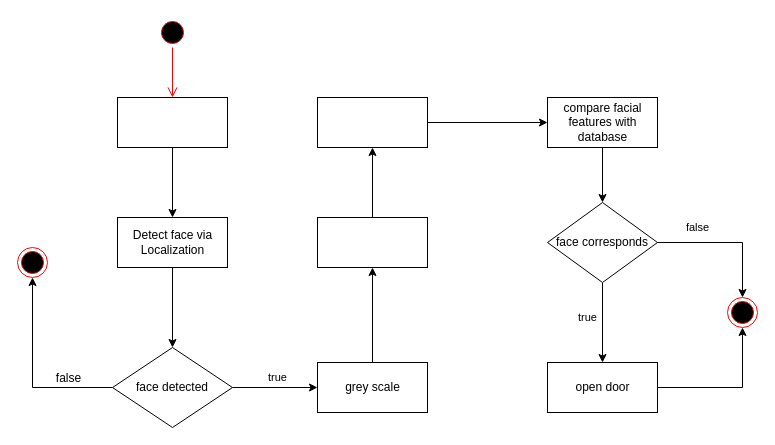
The diagram is 775 pixels wide and 445 high, and some of its shapes have lost their labels. The shapes that lost their labels are listed below. From the top down, each one's centre as x and y in pixels, then its label:
At (x=172, y=122): "open and get frame from camera".
At (x=372, y=122): "Detect facial features".
At (x=372, y=242): "detect edges".
